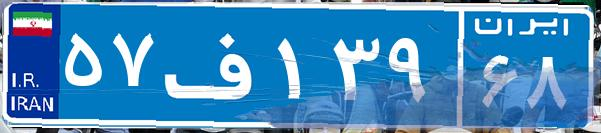1: (273, 28, 330, 110)
3: (330, 28, 385, 110)
5: (57, 26, 110, 107)
6: (475, 38, 525, 113)
7: (110, 28, 158, 105)
8: (525, 38, 570, 115)
9: (385, 28, 445, 110)
ف: (158, 15, 273, 115)
